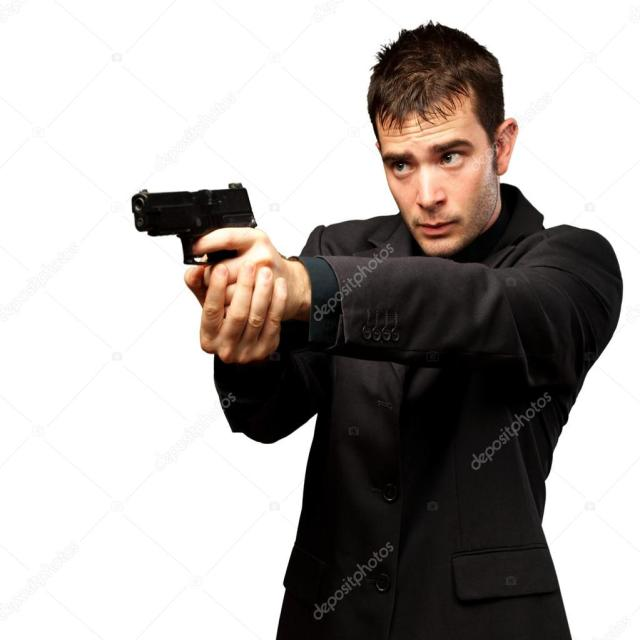HandGun: (131, 183, 258, 265)
